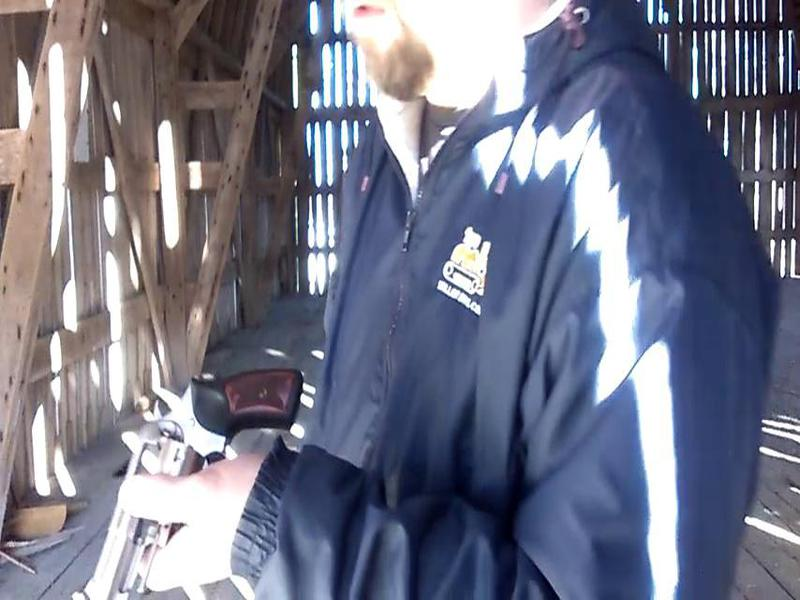Revolver: (78, 349, 318, 600)
